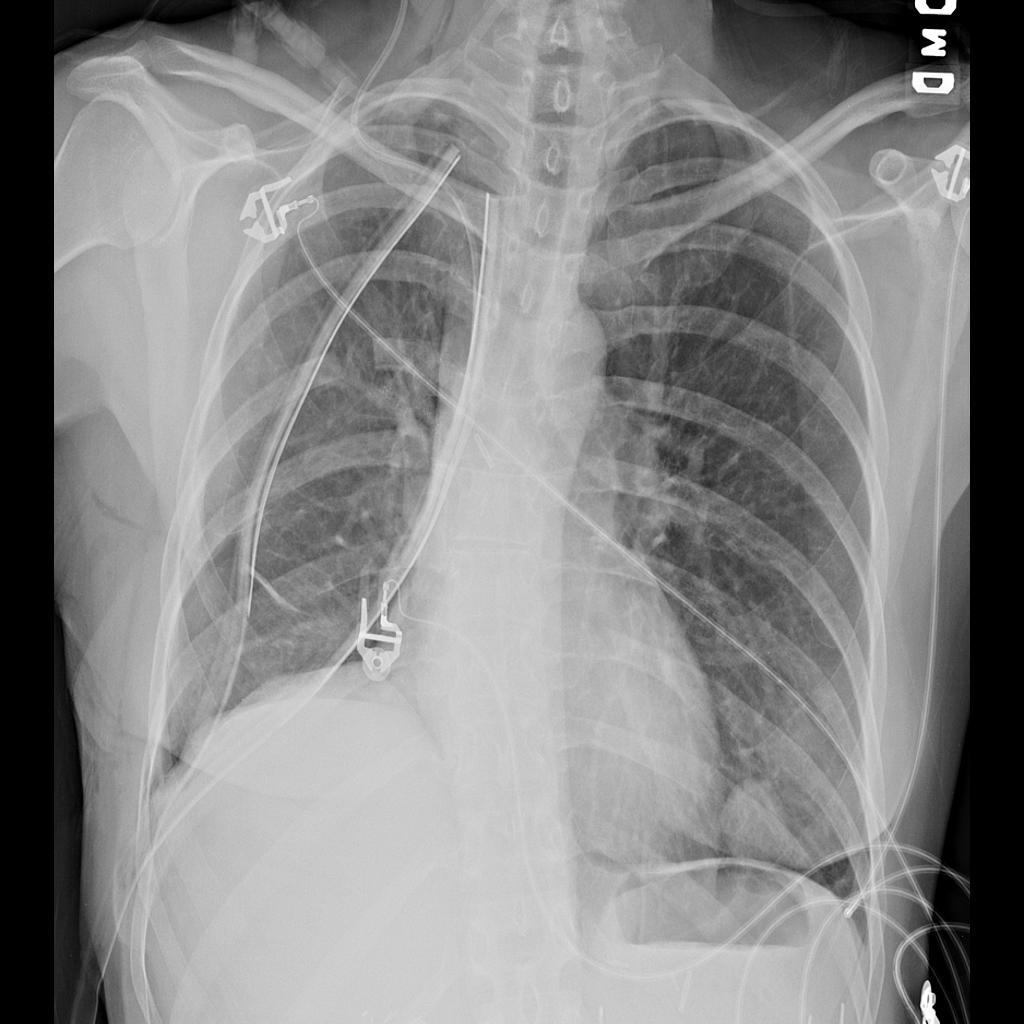Nodule: (718, 771, 791, 880)
